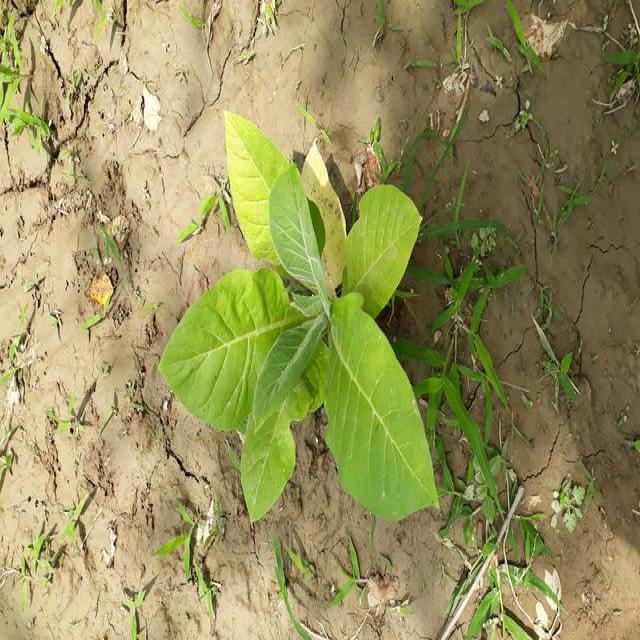crop: (174, 122, 448, 524)
